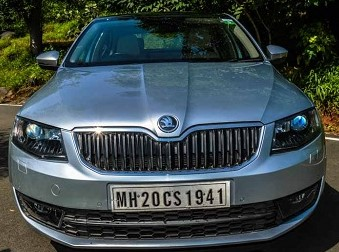MH20CS1941: (111, 183, 226, 209)
